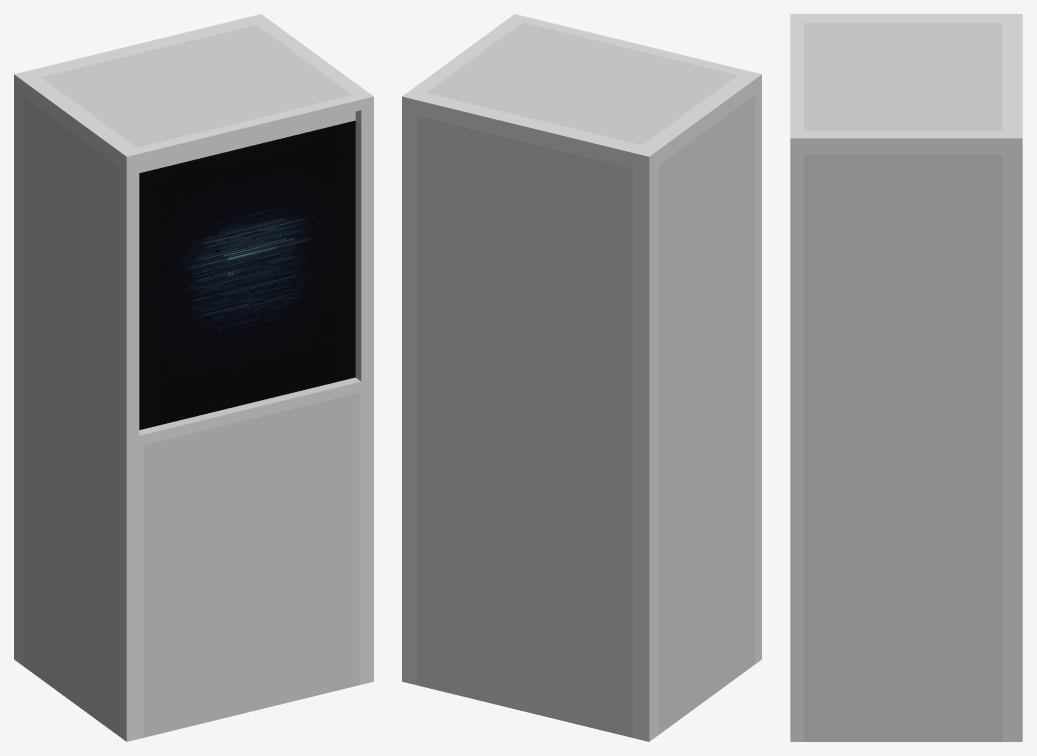
The model's file is ComputerRack01_Off.fbx.
3 renders of one model, left to right at view 1: azimuth 30°, elevation 25°; view 2: azimuth 150°, elevation 25°; view 3: azimuth 270°, elevation 25°, orthographic. The views are drawn at different scales.
Visible parts, largest first — view 1: Ballastkontrolle.001; view 2: Ballastkontrolle.001; view 3: Ballastkontrolle.001.
Boxes of the visible parts, x1,y1,x2,y2 form: Ballastkontrolle.001: (14, 14, 373, 741); Ballastkontrolle.001: (402, 14, 761, 741); Ballastkontrolle.001: (790, 14, 1022, 741).
Size of the model in its own units: 40.72 by 92.12 by 32.18.
